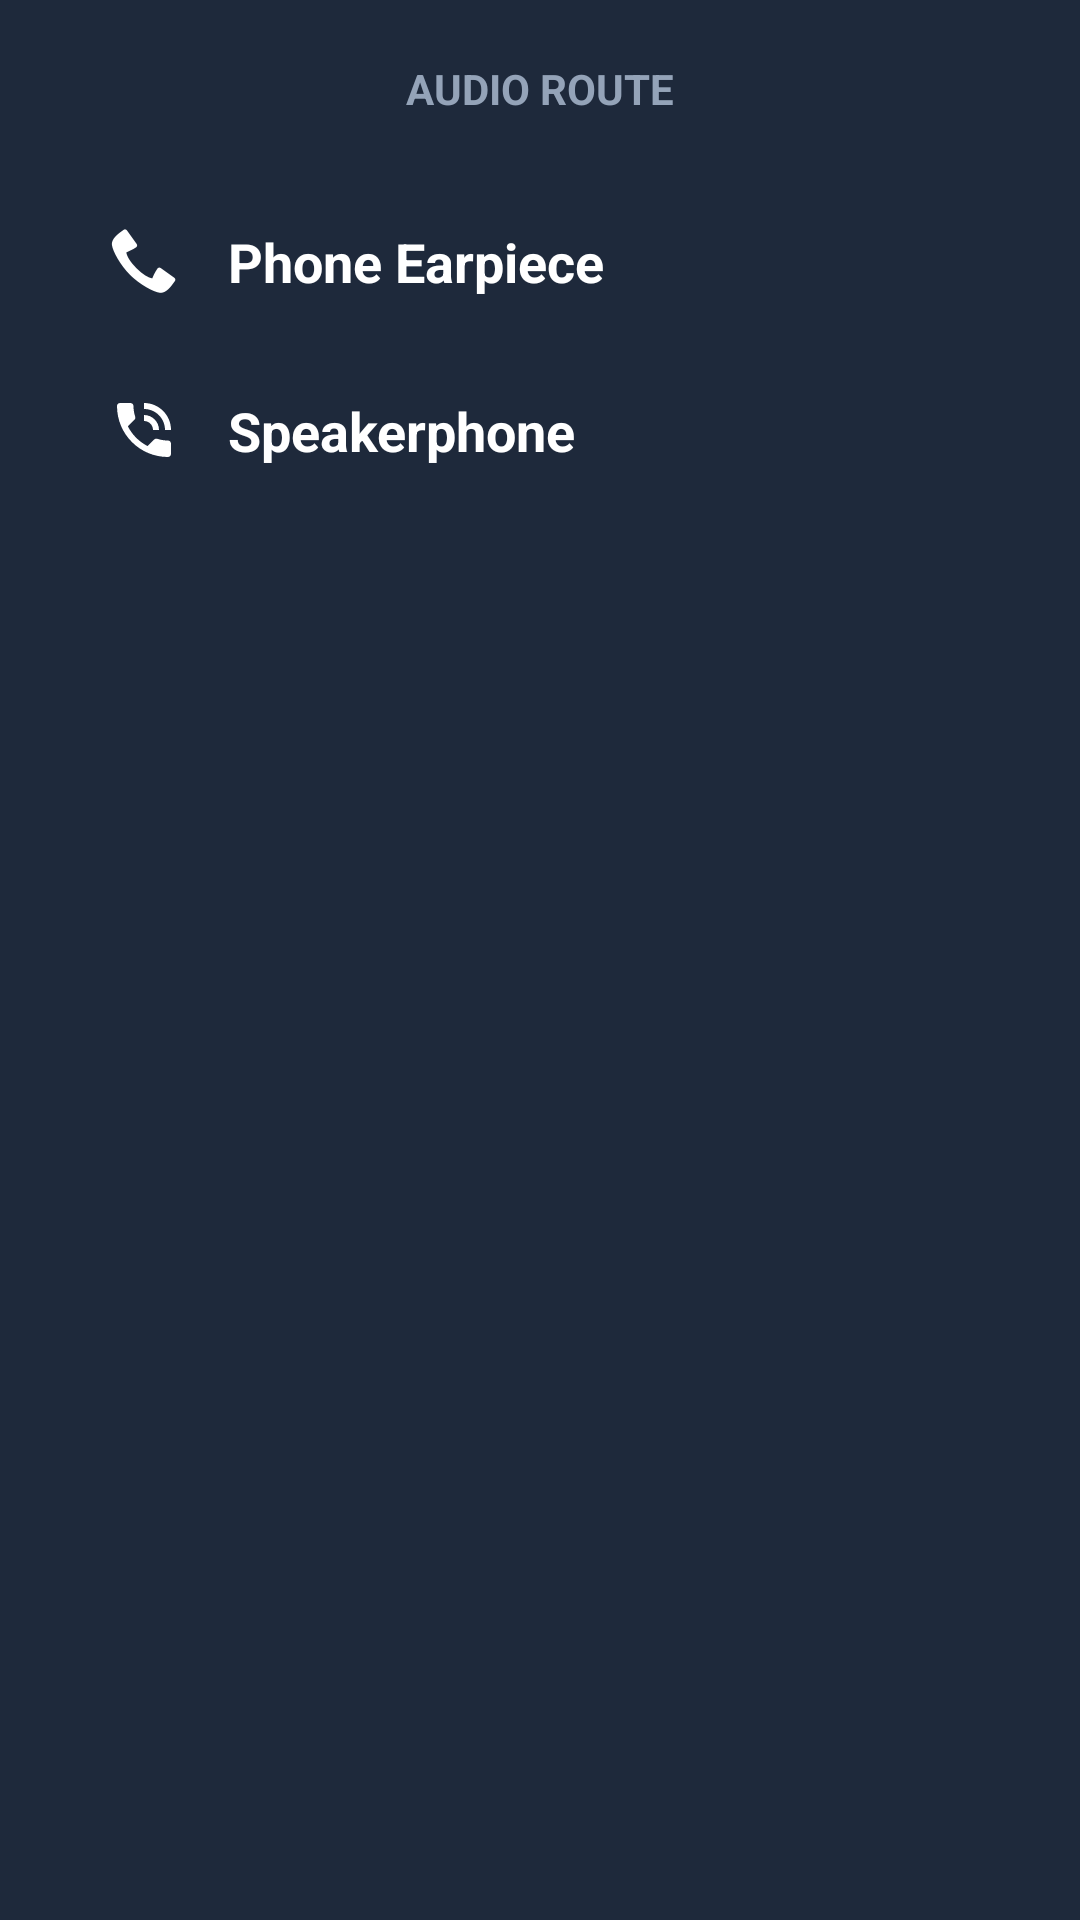

Screen size 1080 × 1920. Icon name, then its center in pixels as [x,y]:
phone call: [144,261]
